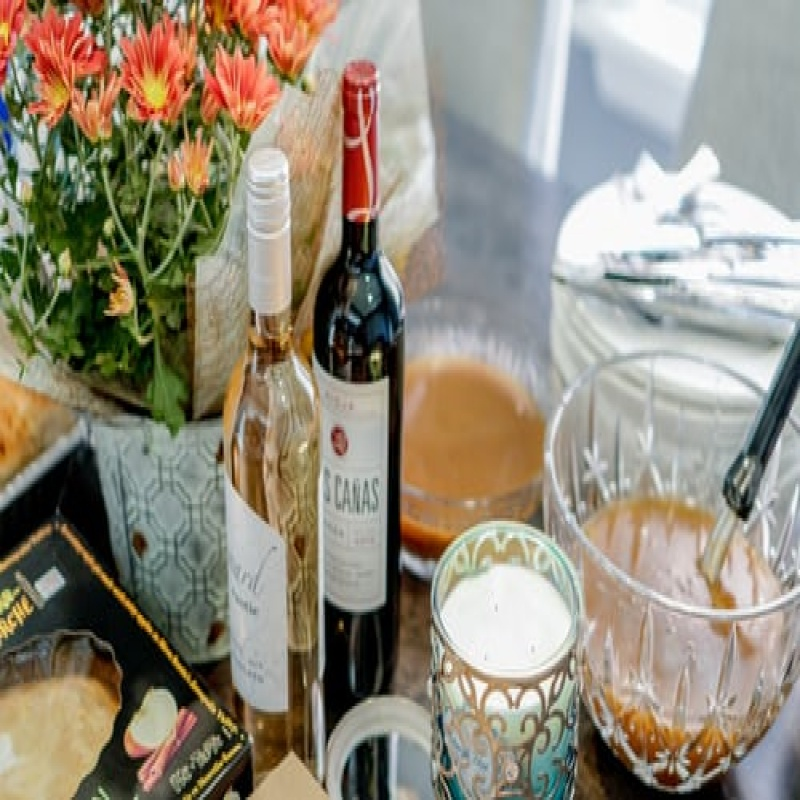wine: (214, 149, 322, 718), (315, 58, 405, 622)
